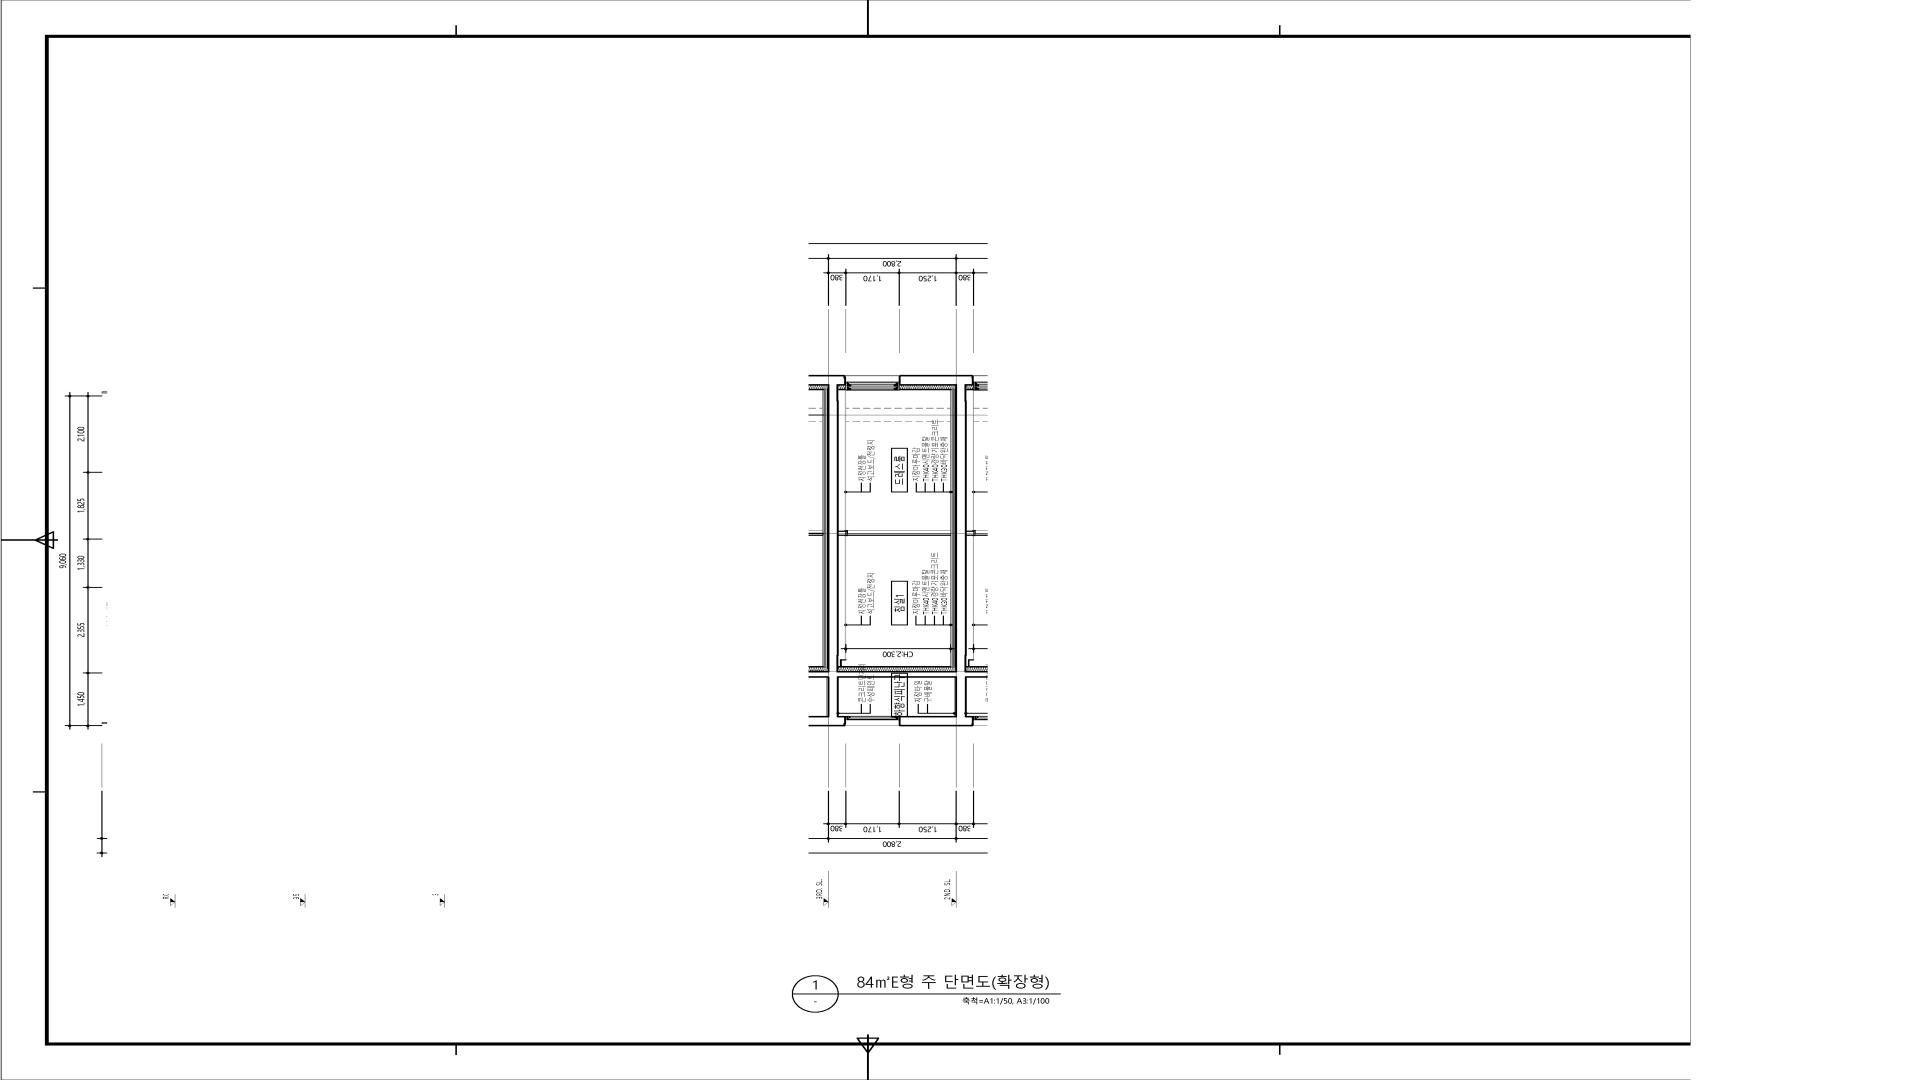background: (3, 0, 1920, 1080)
door: (847, 530, 951, 537)
wall: (827, 375, 967, 727), (839, 530, 847, 535)
window: (847, 376, 898, 390), (847, 716, 898, 725)
